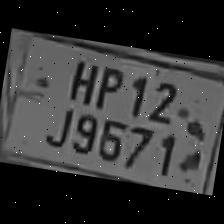1: (148, 124, 180, 177), (120, 68, 152, 119)
2: (142, 73, 181, 124)
6: (93, 114, 127, 162)
7: (120, 119, 154, 172)
9: (68, 107, 100, 155)
H: (62, 54, 101, 106)
J: (40, 97, 74, 150)
P: (90, 61, 126, 113)
